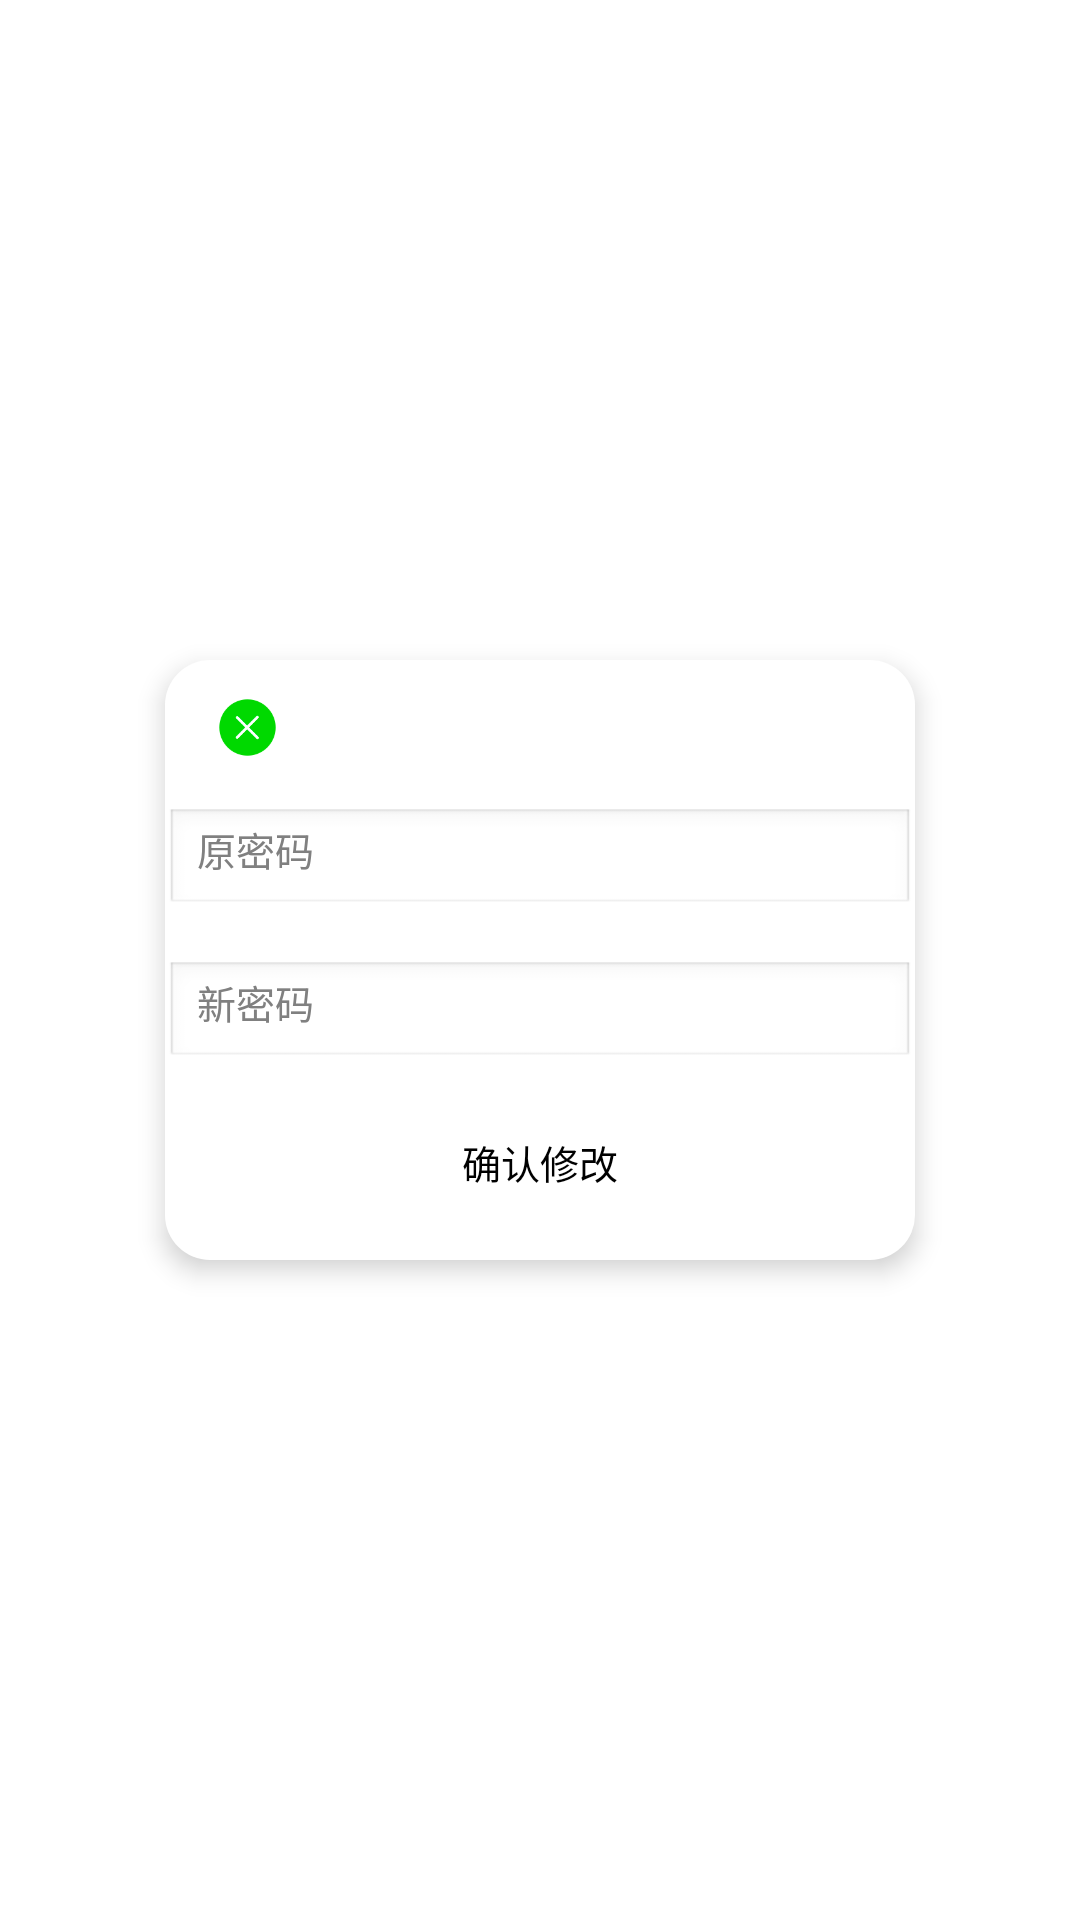

Named icons in this screenshot (1080*1920) and their centers, (x,y):
child close: (247,727)
